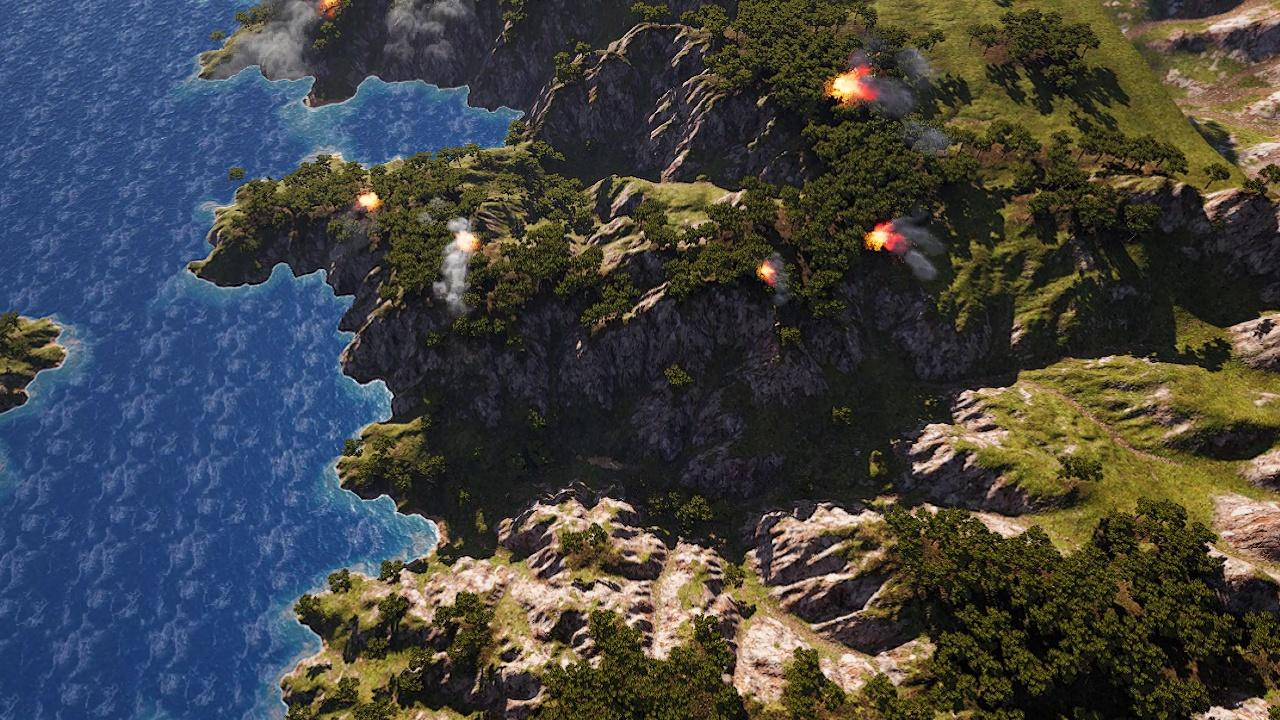fire: (829, 69, 874, 104), (865, 227, 895, 251), (357, 190, 380, 210), (758, 263, 775, 285)
smoke: (853, 39, 949, 159), (236, 0, 335, 78), (431, 212, 483, 318), (879, 212, 952, 282)
